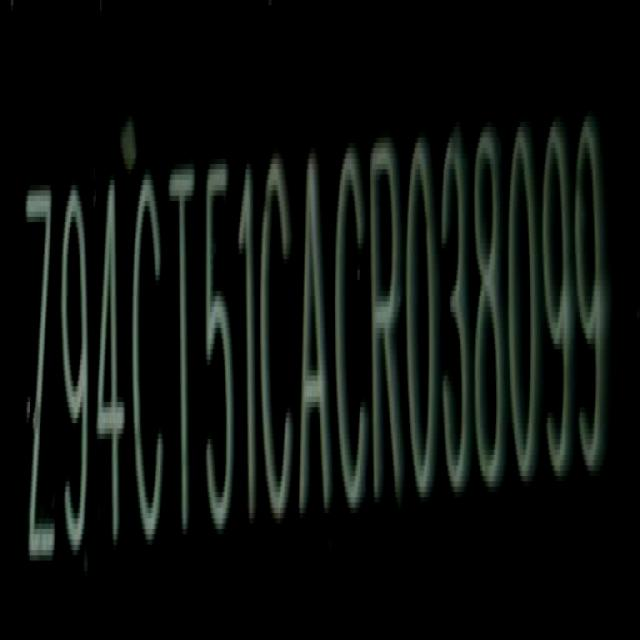0: (506, 118, 540, 494), (407, 129, 439, 512)
1: (236, 154, 255, 540)
3: (440, 126, 470, 505)
4: (98, 174, 128, 566)
5: (204, 151, 236, 546)
8: (472, 119, 505, 497)
9: (540, 114, 573, 491), (60, 176, 90, 574), (577, 109, 608, 489)
A: (299, 142, 333, 526)
C: (258, 147, 294, 533), (133, 174, 168, 558), (335, 138, 368, 523)
R: (368, 133, 407, 517)
T: (165, 153, 202, 552)
Z: (22, 176, 55, 576)
